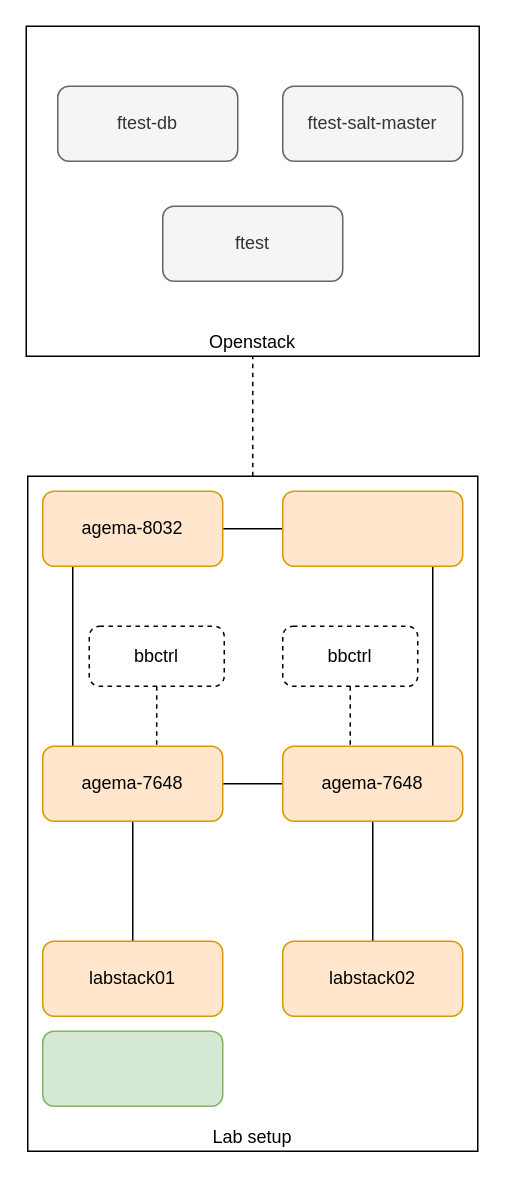
This 506x1178 diagram has some shape labels left out. The centre of each missing label's shape, as x and y in pixels:
agema-9032: point 372,528
labstack03: point 132,1068
